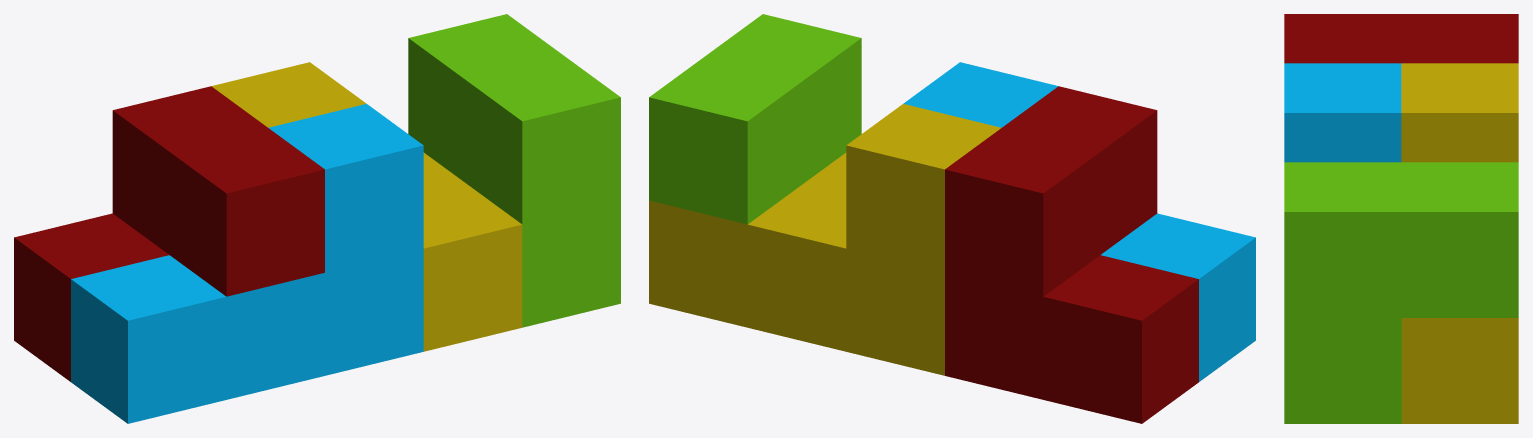
The picture shows the model from 3 angles, left to right: view 1: azimuth 30°, elevation 25°; view 2: azimuth 150°, elevation 25°; view 3: azimuth 270°, elevation 25°; orthographic projection. The views are drawn at different scales.
Parts seen in each view (by area): view 1: mergedBlocks(Clone); view 2: mergedBlocks(Clone); view 3: mergedBlocks(Clone).
Boxes of the visible parts, <box> form: mergedBlocks(Clone): <box>14,14,620,423</box>; mergedBlocks(Clone): <box>649,14,1255,423</box>; mergedBlocks(Clone): <box>1284,14,1518,423</box>.
Bounding box in the file's own units: 5 × 2 × 2.
4 materials, 4 textured.
